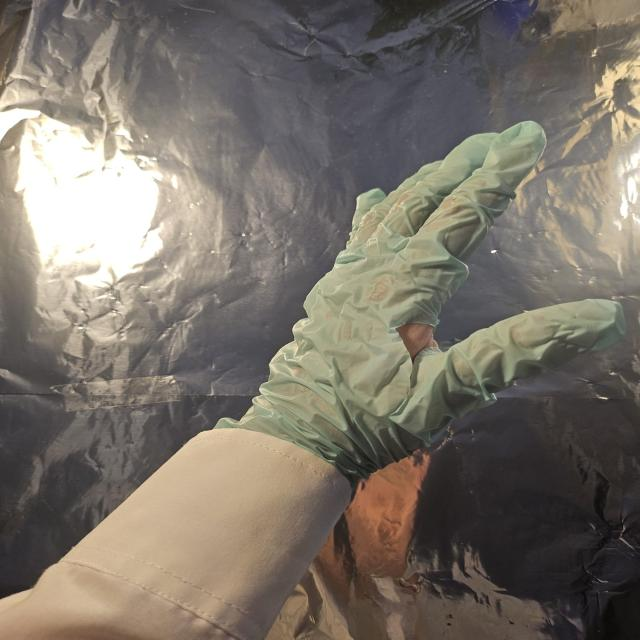gloves_damaged: (207, 120, 627, 474)
